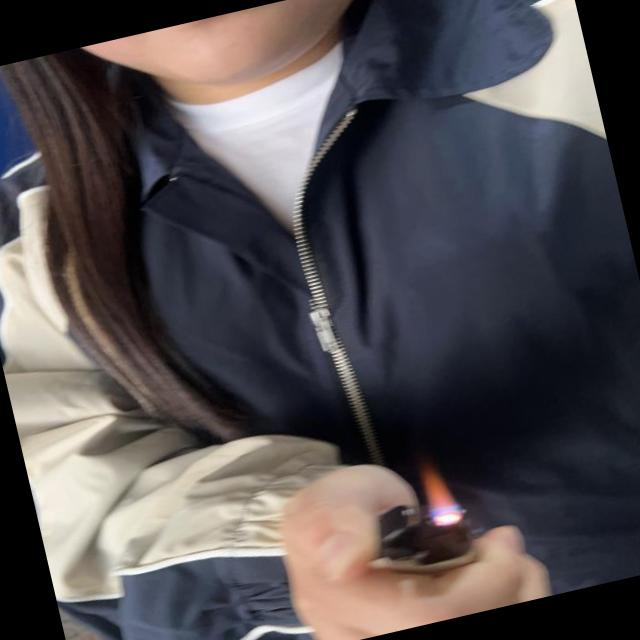Fire: (416, 462, 462, 520)
